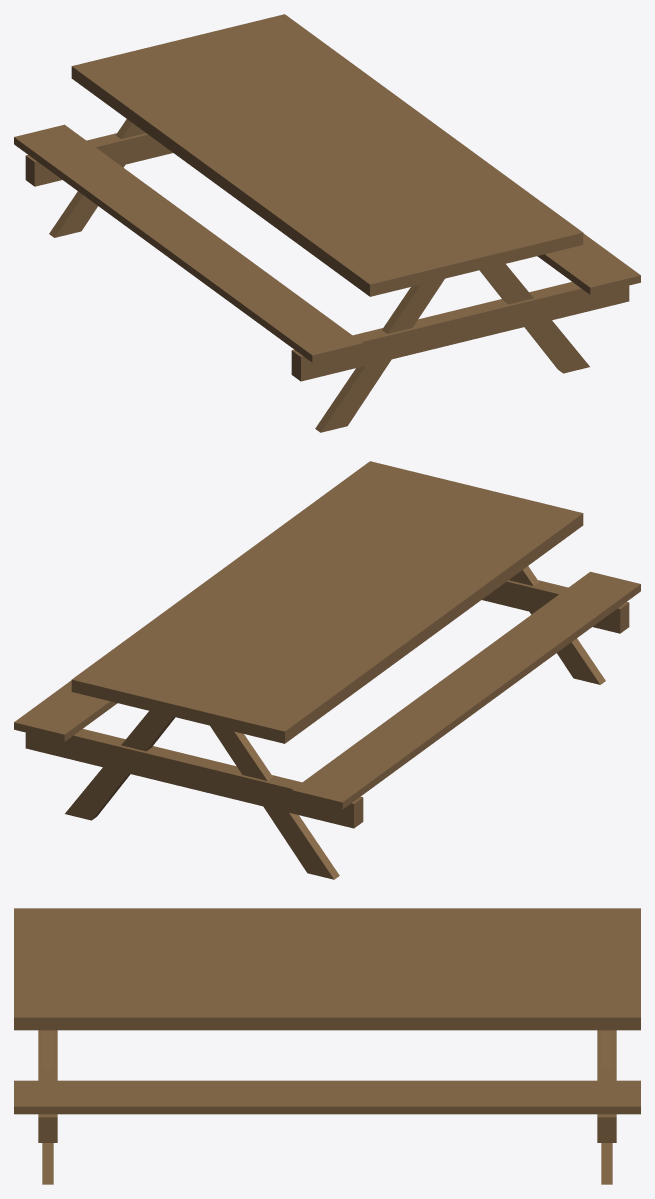
The model's file is picnicTable.fbx.
The picture shows the model from 3 angles, top to bottom: view 1: azimuth 30°, elevation 25°; view 2: azimuth 150°, elevation 25°; view 3: azimuth 270°, elevation 25°; orthographic projection. The views are drawn at different scales.
Parts seen in each view (by area): view 1: picnicTable; view 2: picnicTable; view 3: picnicTable.
Boxes of the visible parts, x1=… form: picnicTable: x1=14, y1=14, x2=640, y2=432; picnicTable: x1=14, y1=461, x2=640, y2=879; picnicTable: x1=14, y1=908, x2=640, y2=1184.
Bounding box in the file's own units: 397 × 172 × 624.
